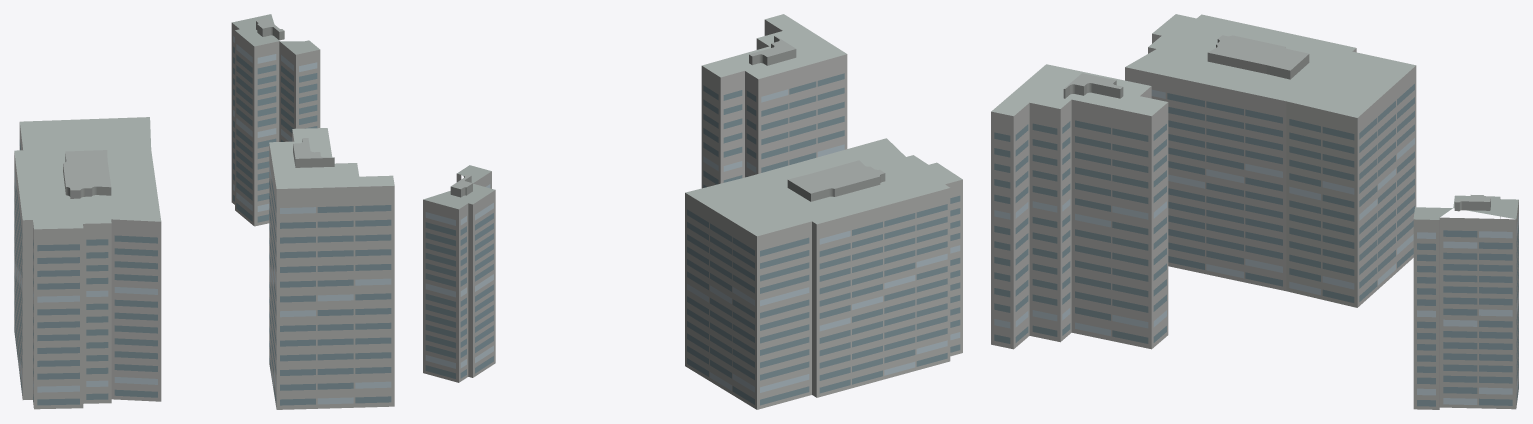
File: apt-a10023539.glb
3 renders of one model, left to right at view 1: azimuth 30°, elevation 25°; view 2: azimuth 150°, elevation 25°; view 3: azimuth 270°, elevation 25°, orthographic. The views are drawn at different scales.
Visible parts, largest first — view 1: apt-a10023539; view 2: apt-a10023539; view 3: apt-a10023539.
Boxes of the visible parts, x1,y1,x2,y2 form: apt-a10023539: (14, 14, 394, 409); apt-a10023539: (423, 14, 962, 409); apt-a10023539: (991, 14, 1518, 409).
Size of the model in its own units: 111 by 61 by 120.
